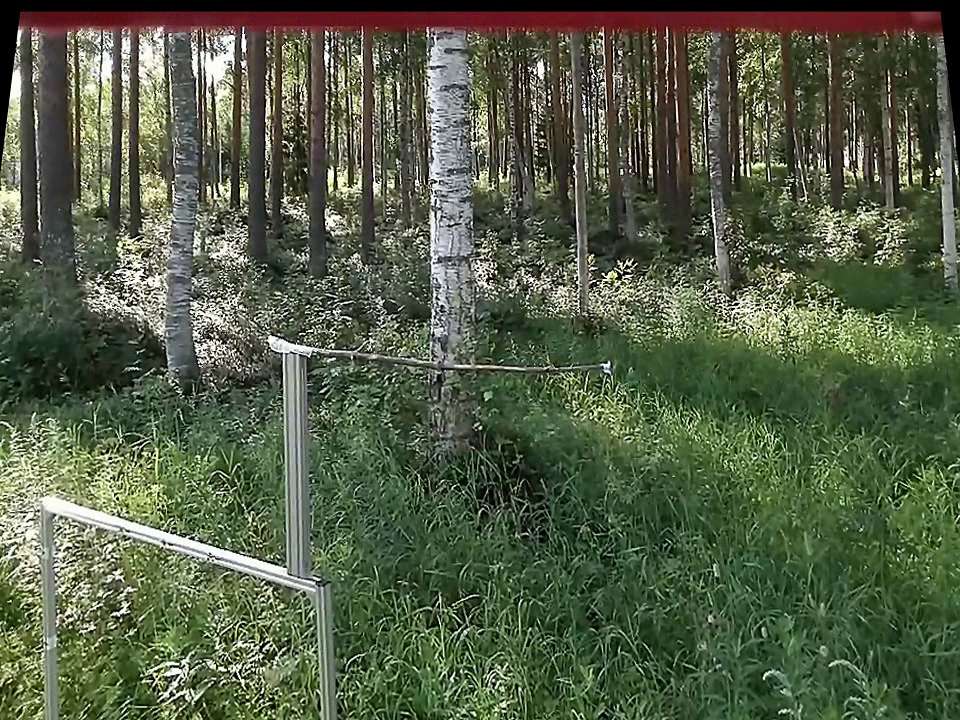aluminum_frame: (46, 489, 333, 599), (277, 351, 312, 573), (36, 497, 65, 719), (308, 577, 341, 718)
branch: (317, 337, 601, 376)
